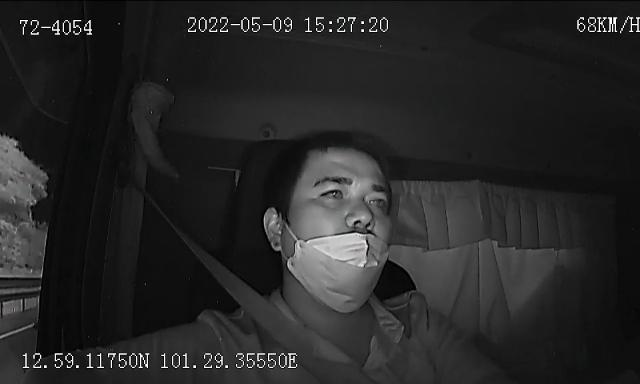SafeDriving: (316, 180, 351, 204), (362, 185, 392, 209)
Seatbelt: (143, 191, 376, 384)
